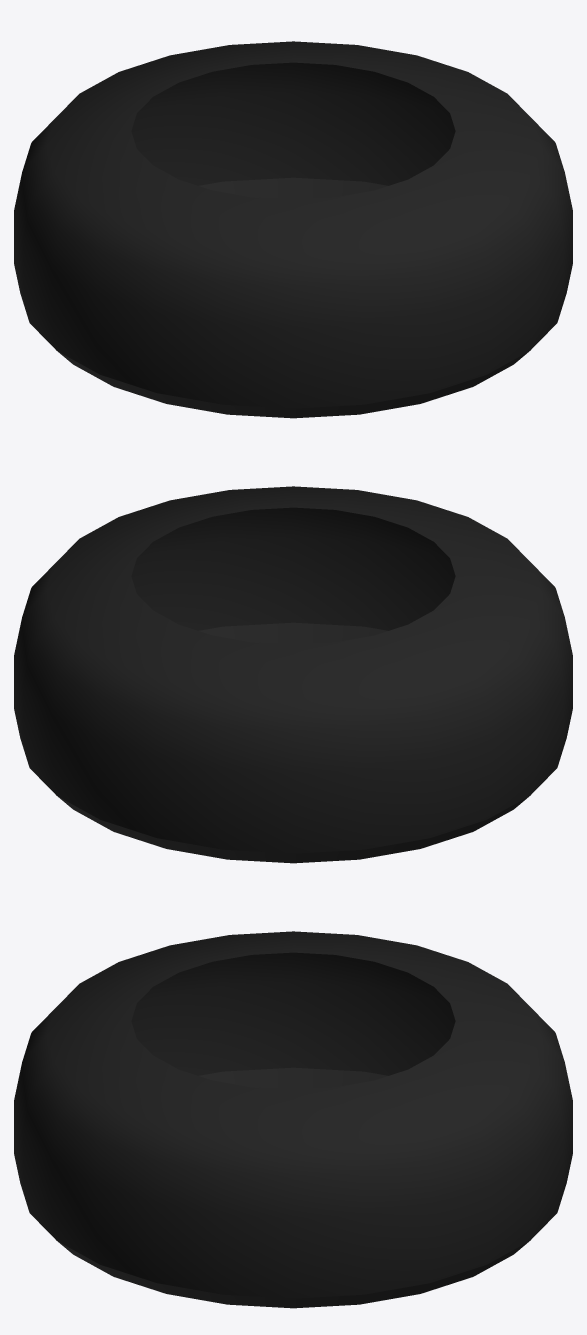
File: TanHuang_QiNang_1X2_on.FBX
3 views of the same model, one above another, from view 1: azimuth 30°, elevation 25°; view 2: azimuth 150°, elevation 25°; view 3: azimuth 270°, elevation 25° (orthographic).
Parts seen in each view (by area): view 1: Box002; view 2: Box002; view 3: Box002.
Boxes of the visible parts, x1=… form: Box002: x1=14, y1=41, x2=572, y2=418; Box002: x1=14, y1=486, x2=572, y2=863; Box002: x1=14, y1=931, x2=572, y2=1308.
Size of the model in its own units: 1.91 by 1 by 1.91.
